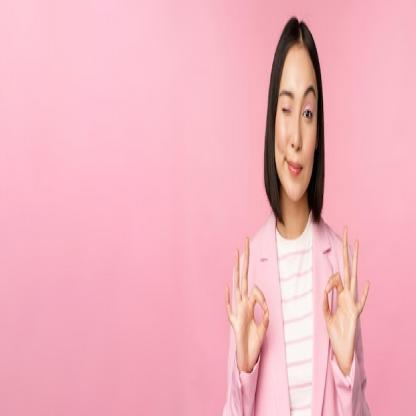ok: (320, 220, 371, 376), (223, 232, 270, 378)
